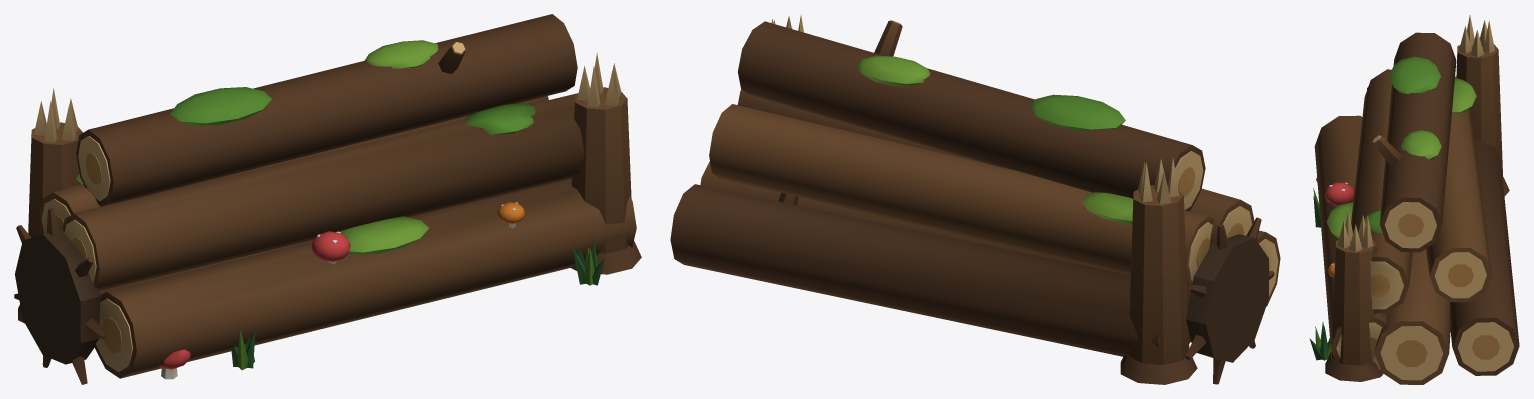
File: x_barrier_forst.glb
The picture shows the model from 3 angles, left to right: view 1: azimuth 30°, elevation 25°; view 2: azimuth 150°, elevation 25°; view 3: azimuth 270°, elevation 25°; orthographic projection. The views are drawn at different scales.
Parts seen in each view (by area): view 1: body; view 2: body; view 3: body.
Boxes of the visible parts, bbox=[...] form: body: bbox=[14, 14, 641, 384]; body: bbox=[670, 14, 1280, 384]; body: bbox=[1309, 15, 1519, 384].
Size of the model in its own units: 7.93 by 3.62 by 3.37.
